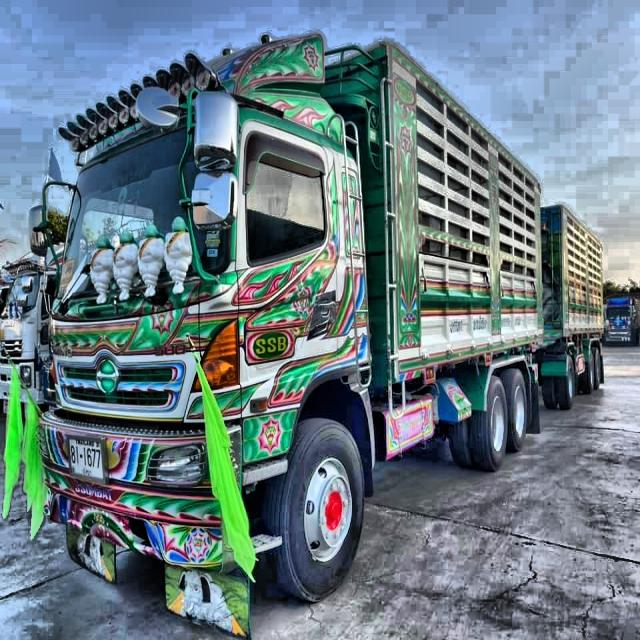trailer: (33, 20, 614, 640)
